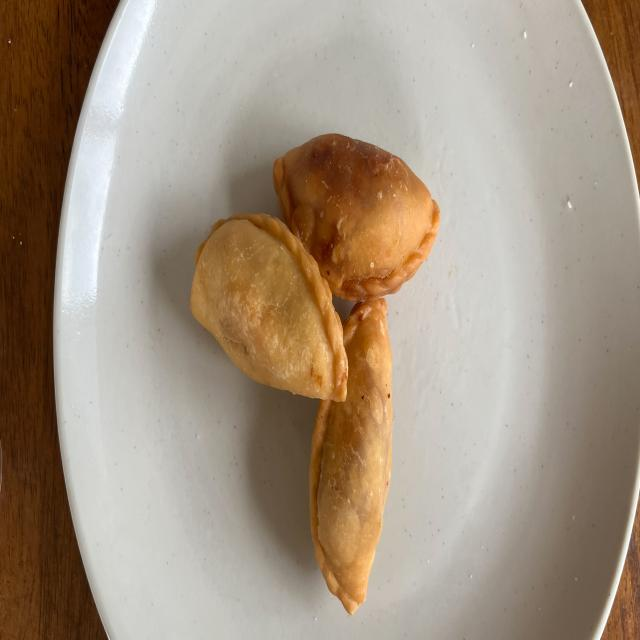karipap: (190, 213, 348, 400), (272, 133, 440, 302), (309, 298, 392, 616)
